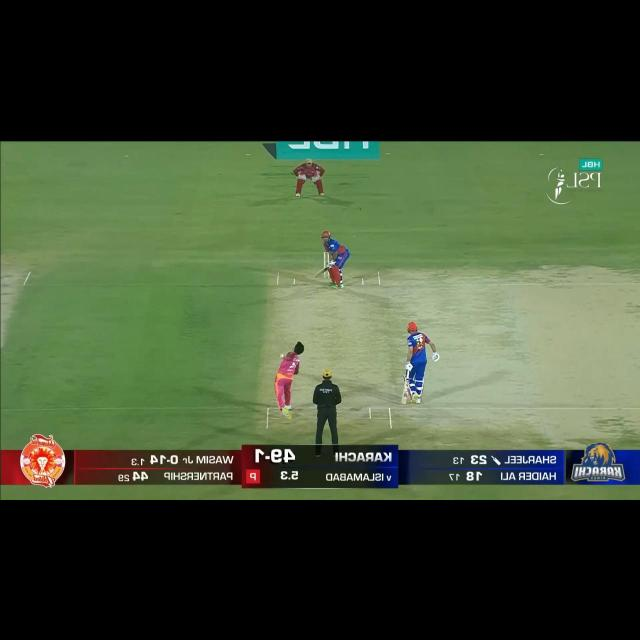bat: (401, 377, 409, 405), (315, 266, 328, 278)
toe: (314, 273, 320, 278), (401, 399, 406, 405)
